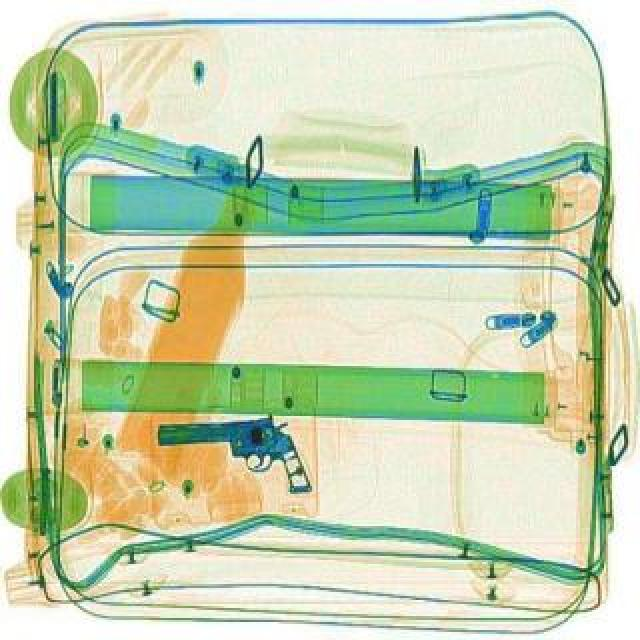gun: (152, 414, 316, 498)
